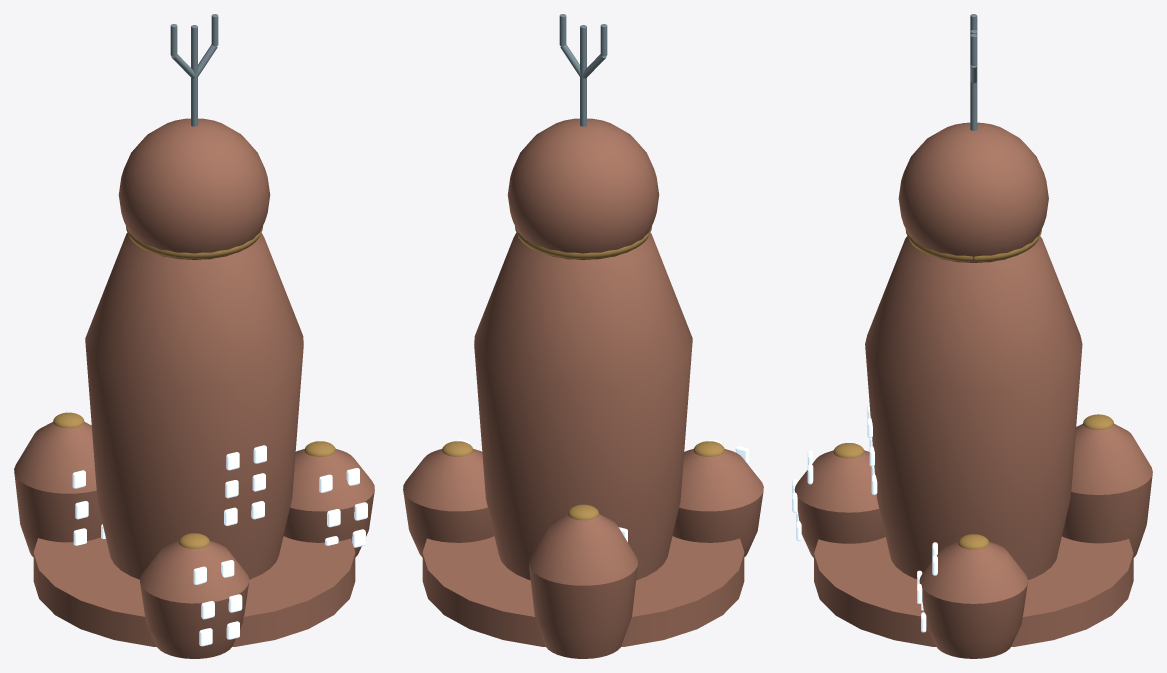
3 renders of one model, left to right at view 1: azimuth 30°, elevation 25°; view 2: azimuth 150°, elevation 25°; view 3: azimuth 270°, elevation 25°, orthographic.
Parts seen in each view (by area): view 1: Bulb shaped chamber, Foundation drum, Stacked rounded vessel, Bulb shaped chamber.003, Bulb shaped chamber.002, Bulb shaped chamber.001, Rounded vessel collar, Aerial stem; view 2: Bulb shaped chamber, Foundation drum, Stacked rounded vessel, Bulb shaped chamber.002, Bulb shaped chamber.003, Bulb shaped chamber.001, Rounded vessel collar, Aerial stem; view 3: Bulb shaped chamber, Foundation drum, Stacked rounded vessel, Bulb shaped chamber.001, Bulb shaped chamber.002, Bulb shaped chamber.003, Rounded vessel collar.
Boxes of the visible parts, x1,y1,x2,y2 form: Bulb shaped chamber: [85, 233, 303, 579]; Foundation drum: [33, 536, 355, 646]; Stacked rounded vessel: [118, 118, 270, 259]; Bulb shaped chamber.003: [140, 541, 248, 658]; Bulb shaped chamber.002: [14, 422, 102, 556]; Bulb shaped chamber.001: [283, 449, 374, 557]; Rounded vessel collar: [126, 226, 262, 258]; Aerial stem: [191, 25, 197, 126]; Bulb shaped chamber: [474, 233, 692, 580]; Foundation drum: [422, 536, 744, 646]; Stacked rounded vessel: [507, 118, 659, 259]; Bulb shaped chamber.002: [529, 514, 637, 658]; Bulb shaped chamber.003: [672, 448, 763, 556]; Bulb shaped chamber.001: [403, 449, 494, 557]; Rounded vessel collar: [515, 226, 651, 258]; Aerial stem: [580, 25, 586, 126]; Bulb shaped chamber: [865, 236, 1082, 579]; Foundation drum: [814, 536, 1133, 646]; Stacked rounded vessel: [898, 122, 1048, 262]; Bulb shaped chamber.001: [919, 541, 1027, 658]; Bulb shaped chamber.002: [1062, 423, 1152, 557]; Bulb shaped chamber.003: [794, 450, 885, 557]; Rounded vessel collar: [905, 229, 1041, 262].
Size of the model in its own units: 2.29 by 3.92 by 2.3.
